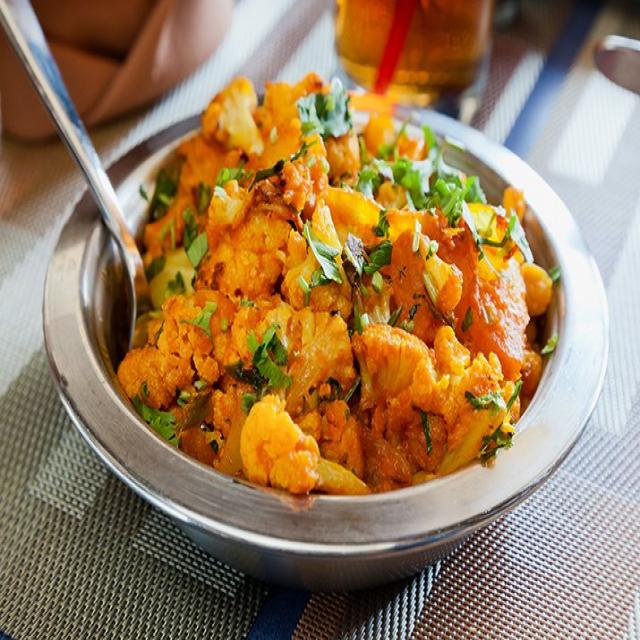Aloo Gobi: (131, 78, 534, 488)
